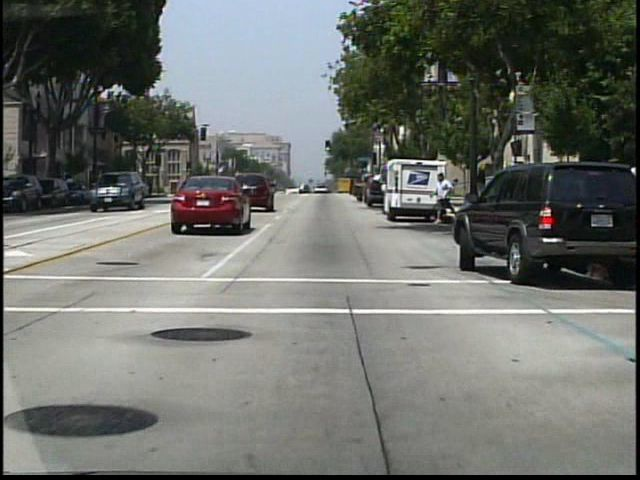person: (428, 170, 455, 222), (353, 175, 370, 204)
